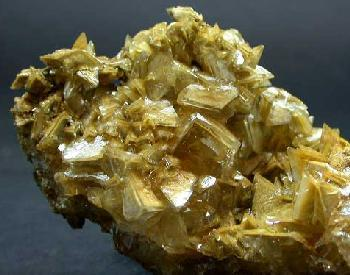calcite: (11, 7, 350, 274)
